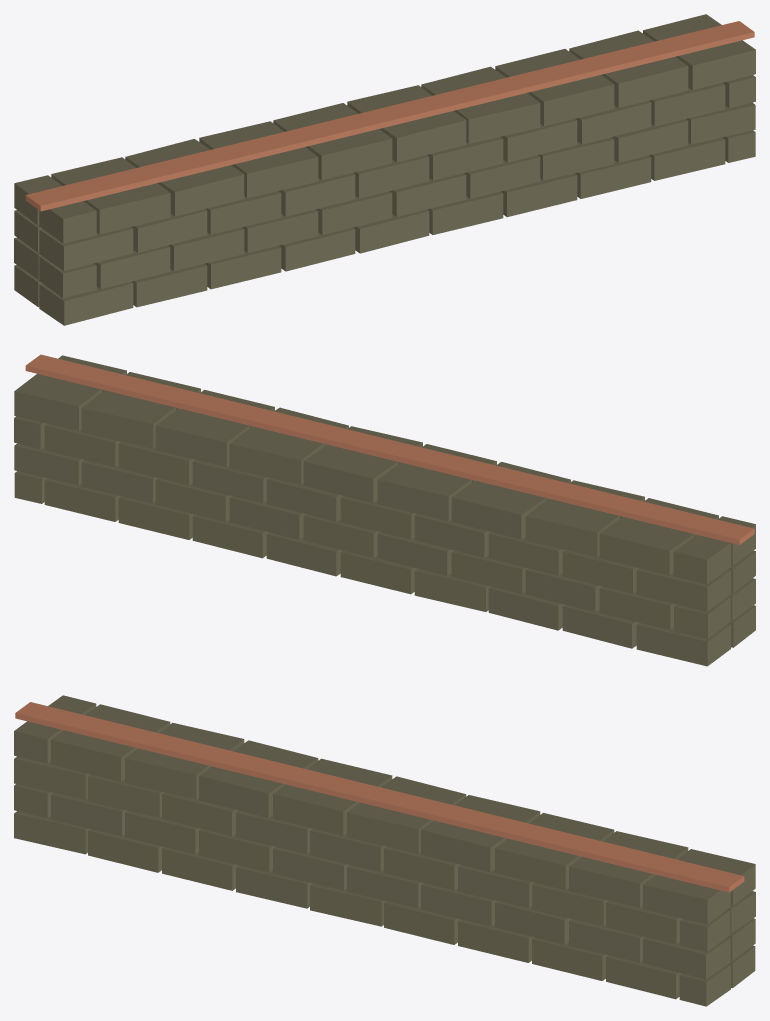
The model's file is SM_MuroSacos_v3_Tablon_e0_Sano_LOD0.fbx.
The picture shows the model from 3 angles, top to bottom: view 1: azimuth 30°, elevation 25°; view 2: azimuth 150°, elevation 25°; view 3: azimuth 330°, elevation 25°; orthographic projection.
Visible parts, largest first — view 1: SM_bloques.muro_sacos_estados_v12_LOD0; view 2: SM_bloques.muro_sacos_estados_v12_LOD0; view 3: SM_bloques.muro_sacos_estados_v12_LOD0.
Part boxes in pixels (box(x1,y1,x2,y2)): SM_bloques.muro_sacos_estados_v12_LOD0: box(14, 14, 755, 325); SM_bloques.muro_sacos_estados_v12_LOD0: box(14, 354, 755, 666); SM_bloques.muro_sacos_estados_v12_LOD0: box(14, 695, 755, 1006).
Bounding box in the file's own units: 8.2 × 1.24 × 0.9933.
